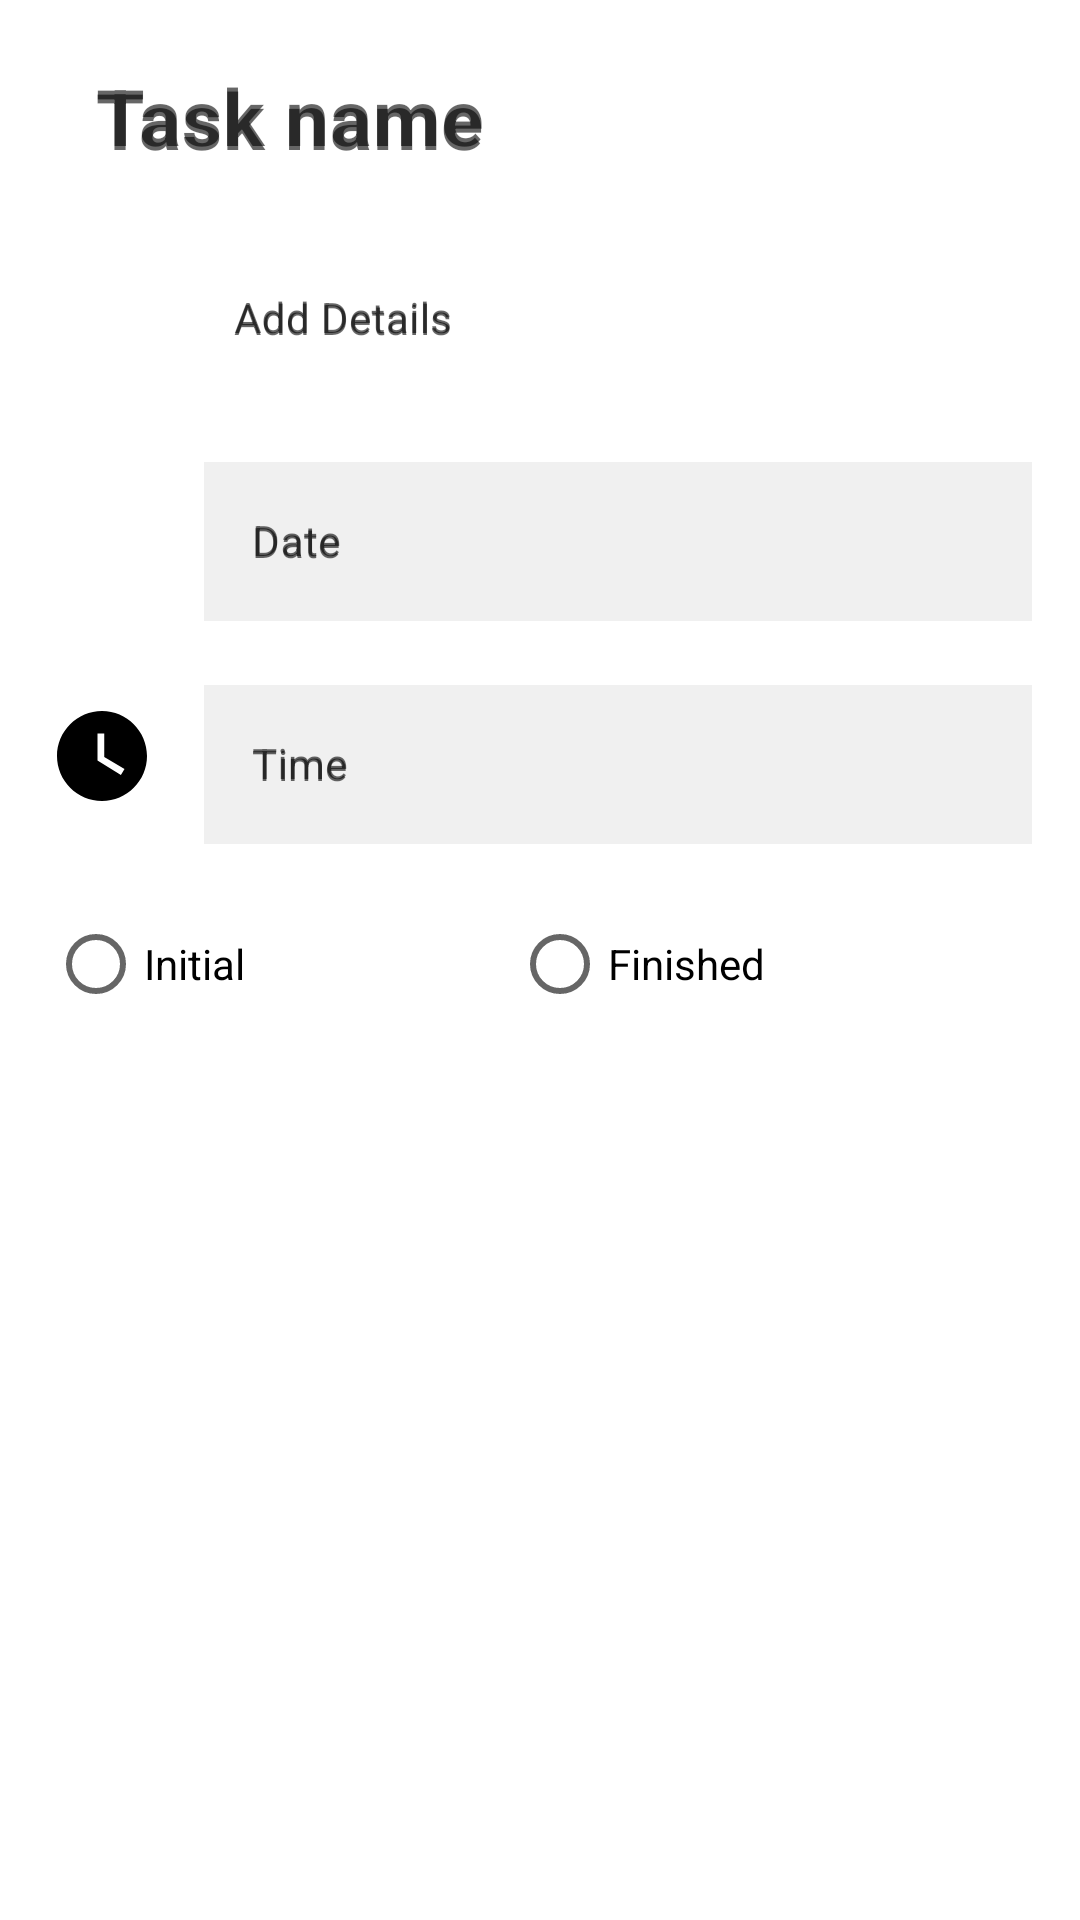

Named icons in this screenshot (1080*1920) and their bounding boxes, (x1, y1, x2, y2):
watch: (57, 711, 147, 801)
